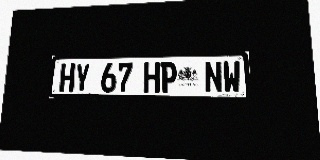6: (101, 63, 117, 92)
7: (116, 62, 133, 93)
H: (143, 62, 160, 93), (59, 63, 75, 92)
N: (204, 61, 223, 93)
P: (160, 62, 177, 93)
W: (222, 61, 241, 93)
Y: (74, 63, 90, 92)
